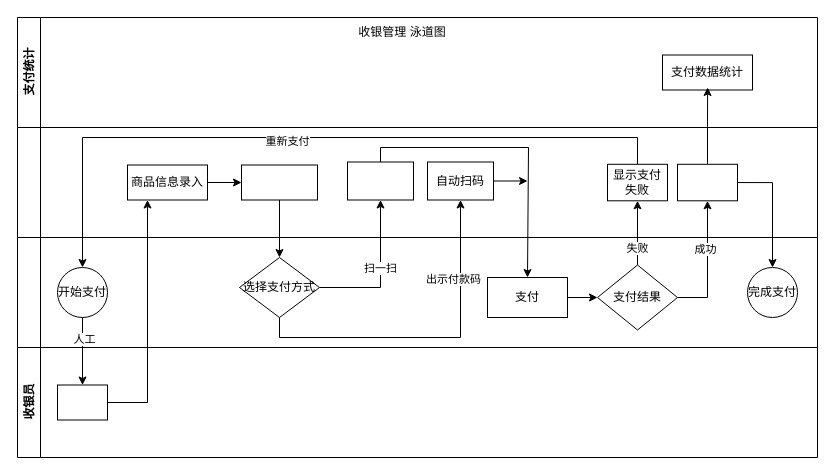
Image size: 835x475. Some labels were removed from this diagram. The shapes that lost their labels are listed below. From the top down, each one's box as (x1, y1, x2, y2) in pixels, then its label:
(240, 164, 318, 200): 支付处理
(346, 161, 414, 200): 显示收款码
(16, 126, 818, 238): 收银系统
(676, 163, 738, 201): 显示支付成功
(16, 236, 818, 348): 顾客
(56, 384, 108, 420): 扫描商品
